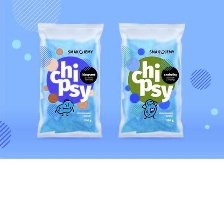snack: (112, 18, 190, 143), (32, 18, 107, 141)
